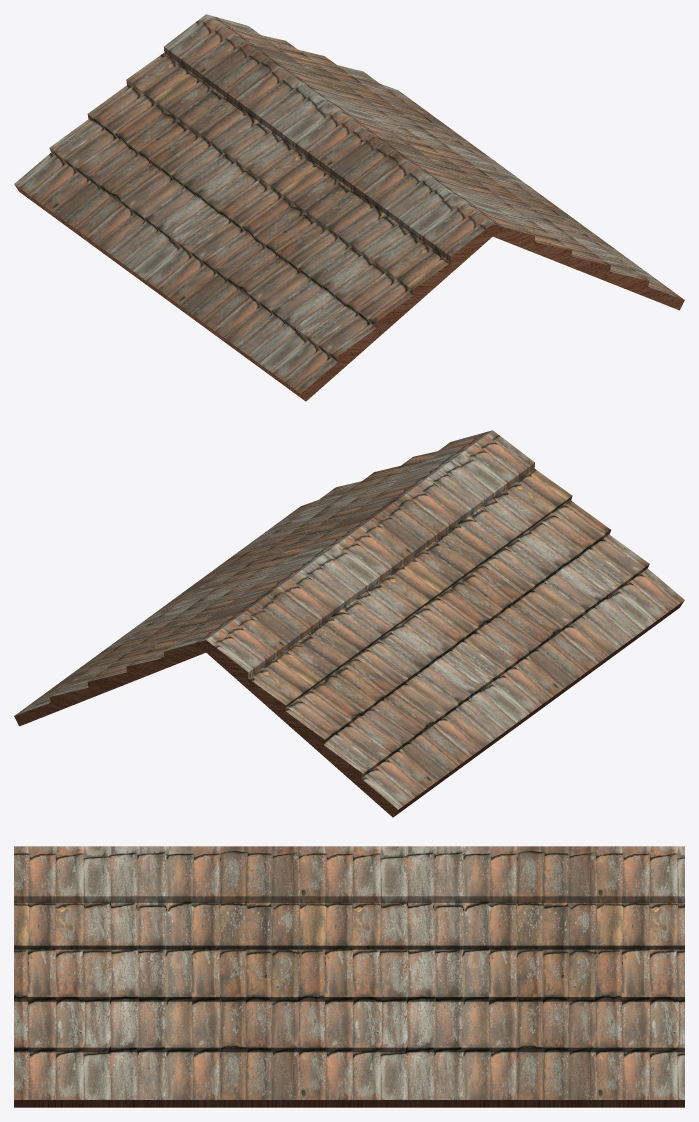
Rendered from R4_Genteng.fbx.
3 renders of one model, top to bottom at view 1: azimuth 30°, elevation 25°; view 2: azimuth 150°, elevation 25°; view 3: azimuth 270°, elevation 25°, orthographic. The views are drawn at different scales.
Visible parts, largest first — view 1: Genteng_R4; view 2: Genteng_R4; view 3: Genteng_R4.
Boxes of the visible parts, <box> form: Genteng_R4: <box>14,14,684,401</box>; Genteng_R4: <box>14,430,684,817</box>; Genteng_R4: <box>14,846,684,1107</box>.
Bounding box in the file's own units: 13.67 × 4.49 × 17.67.
Materials: 2 (2 with a texture image).
